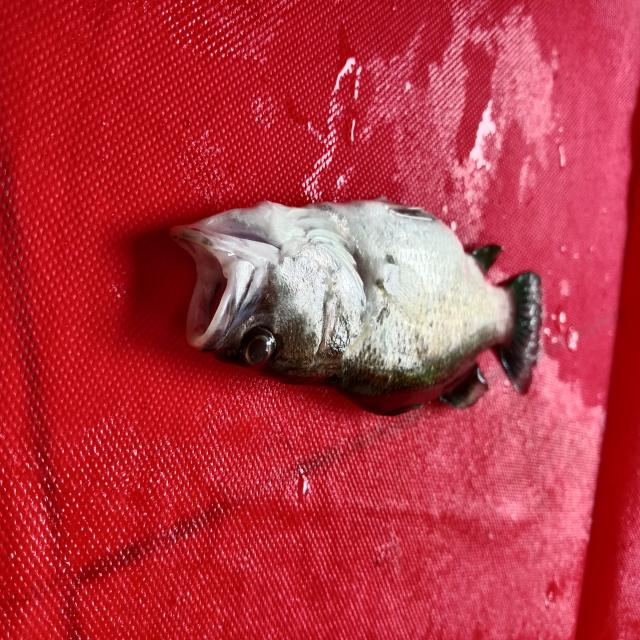ikan: (159, 176, 573, 430)
